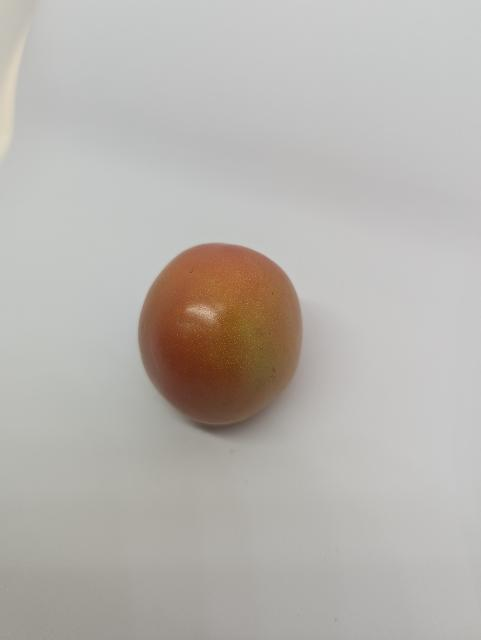turning: (138, 240, 306, 428)
